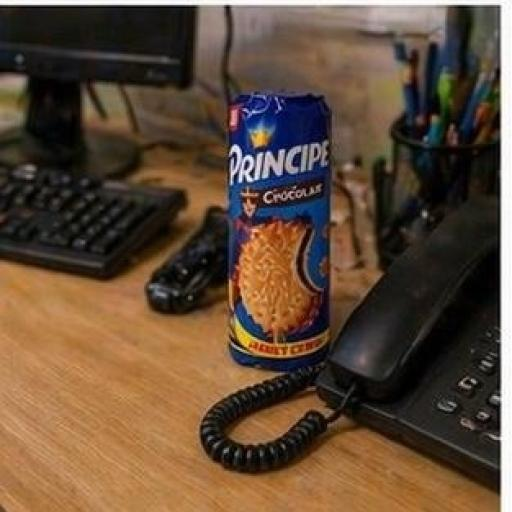prince: (90, 70, 425, 435)
